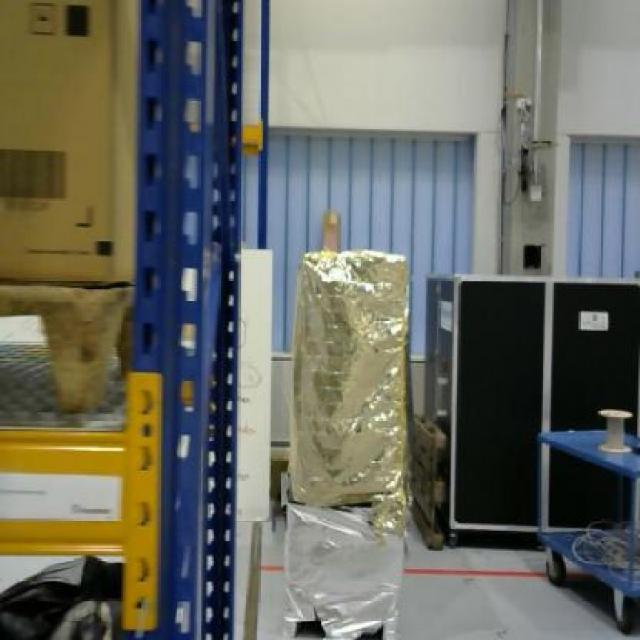box: (0, 0, 132, 284)
